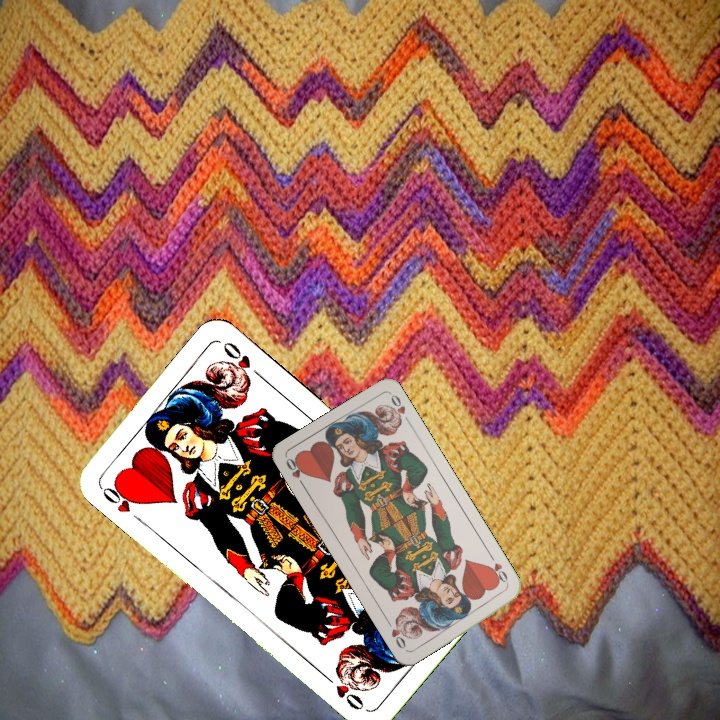HO: (96, 478, 142, 515), (484, 551, 511, 588), (282, 453, 308, 491)
